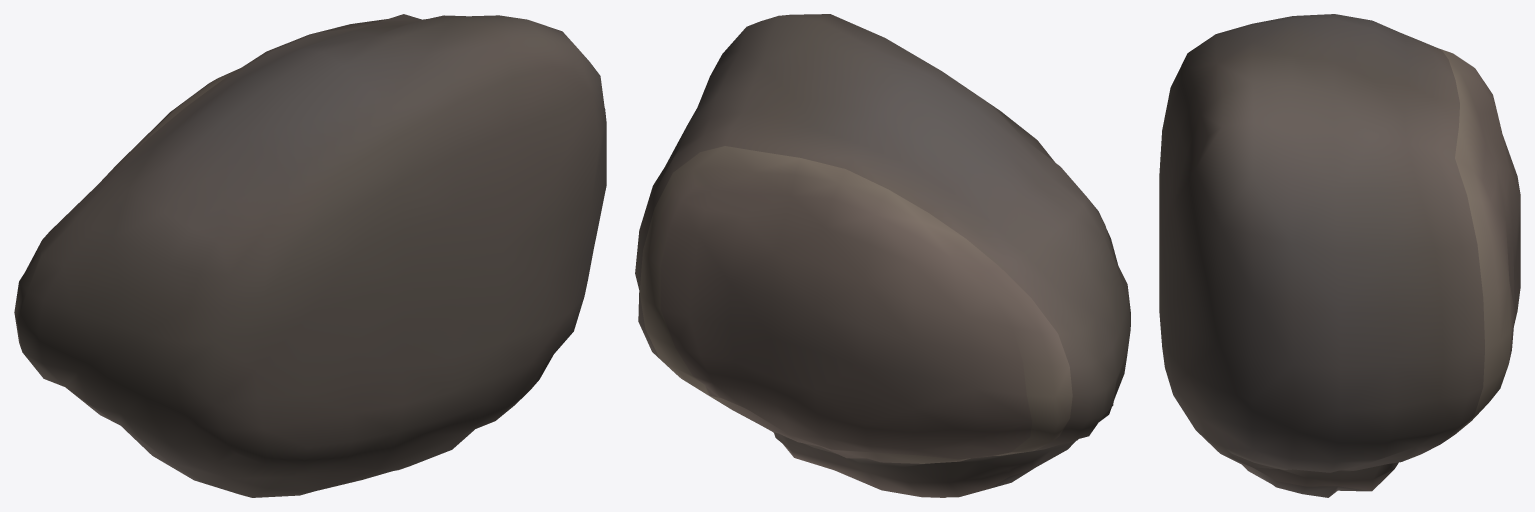
Rendered from RockLarge.006.glb.
3 renders of one model, left to right at view 1: azimuth 30°, elevation 25°; view 2: azimuth 150°, elevation 25°; view 3: azimuth 270°, elevation 25°, orthographic. The views are drawn at different scales.
Visible parts, largest first — view 1: RockLarge.006; view 2: RockLarge.006; view 3: RockLarge.006.
Boxes of the visible parts, box(x1,y1,x2,y2) form: RockLarge.006: box(14, 14, 606, 497); RockLarge.006: box(635, 14, 1130, 497); RockLarge.006: box(1159, 14, 1520, 497).
Bounding box in the file's own units: 1234 × 1016 × 715.
